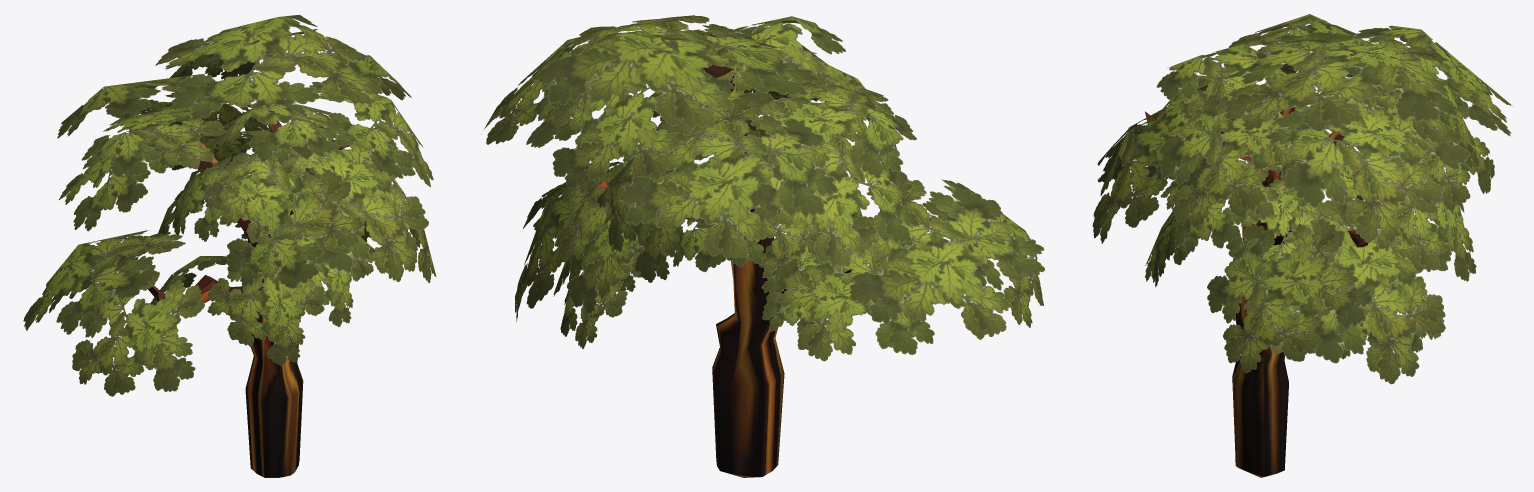
Rendered from tree_2.FBX.
3 views of the same model, side by side, from view 1: azimuth 30°, elevation 25°; view 2: azimuth 150°, elevation 25°; view 3: azimuth 270°, elevation 25° (orthographic). The views are drawn at different scales.
Visible parts, largest first — view 1: tree_2; view 2: tree_2; view 3: tree_2.
Part boxes in pixels (left/top/right/bottom): tree_2: left=23, top=14, right=436, bottom=477; tree_2: left=483, top=15, right=1044, bottom=477; tree_2: left=1092, top=14, right=1511, bottom=477.
Size of the model in its own units: 29.03 by 26.58 by 23.66.
1 material, 1 textured.
